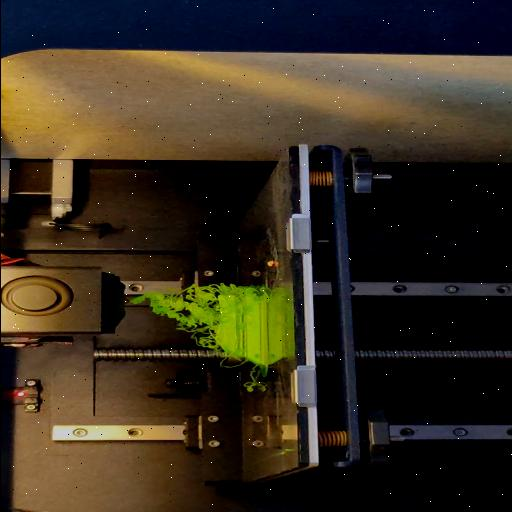spaghetti: (126, 282, 222, 356), (220, 282, 268, 296), (240, 366, 256, 394), (216, 358, 248, 370)
